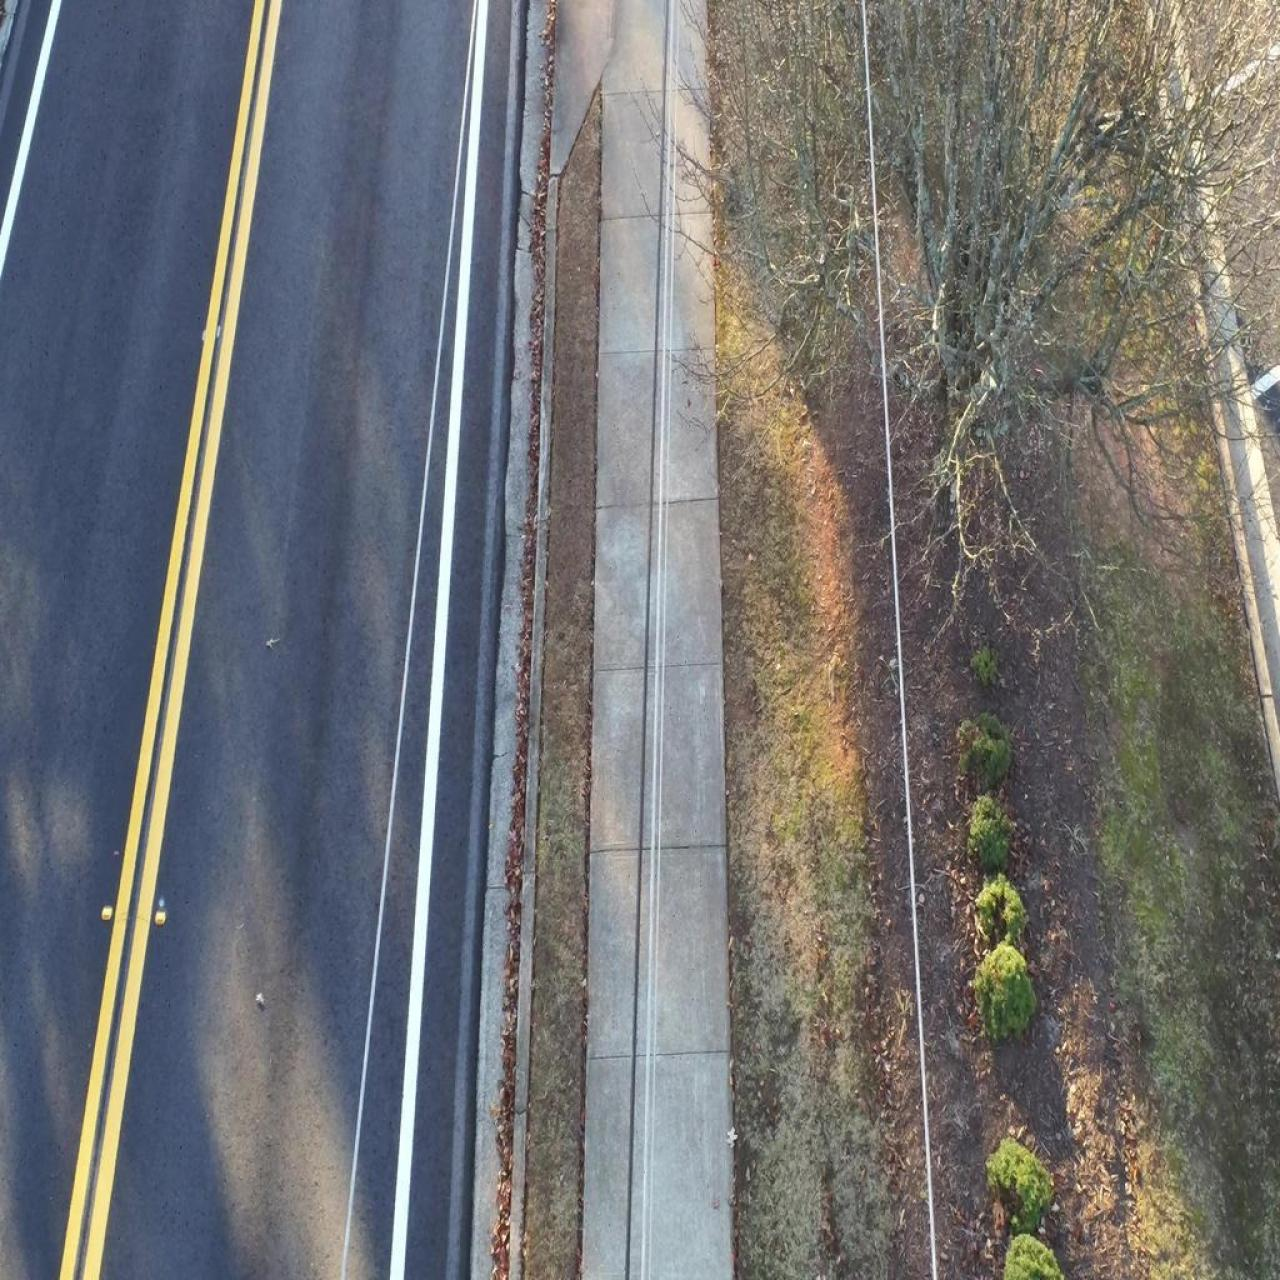cable: (339, 0, 478, 1279), (860, 0, 939, 1279), (640, 0, 681, 1279)
